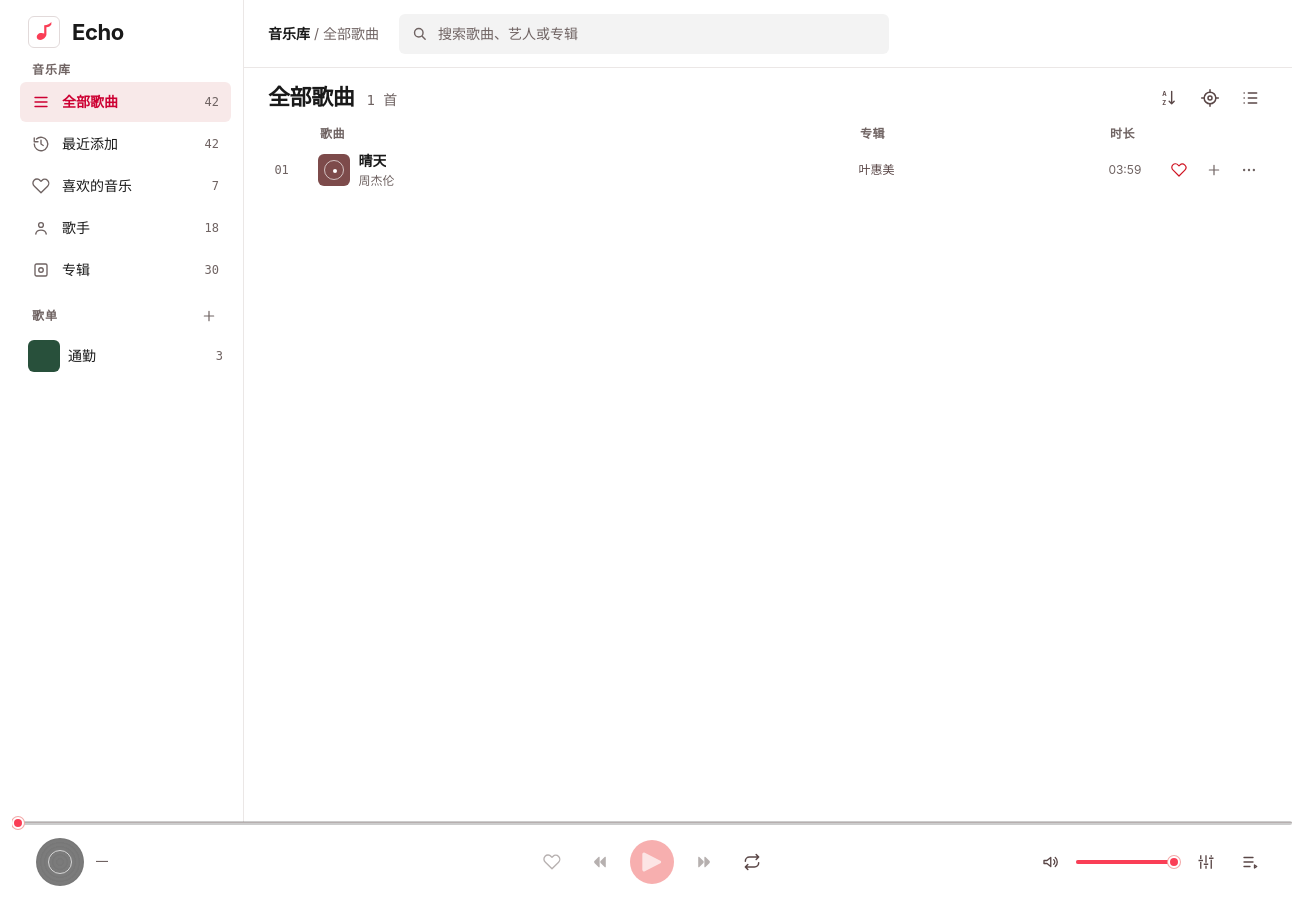
Test: 音乐库导航计数 › updates the exact favorite count without extra reads before or after the write
Check: the text "晴天" is shown, box top-left (358, 150), bottom-right (386, 172)
Click the button named "喜欢晴天". click: (1179, 170)
box: top-left (1166, 156), bottom-right (1193, 184)
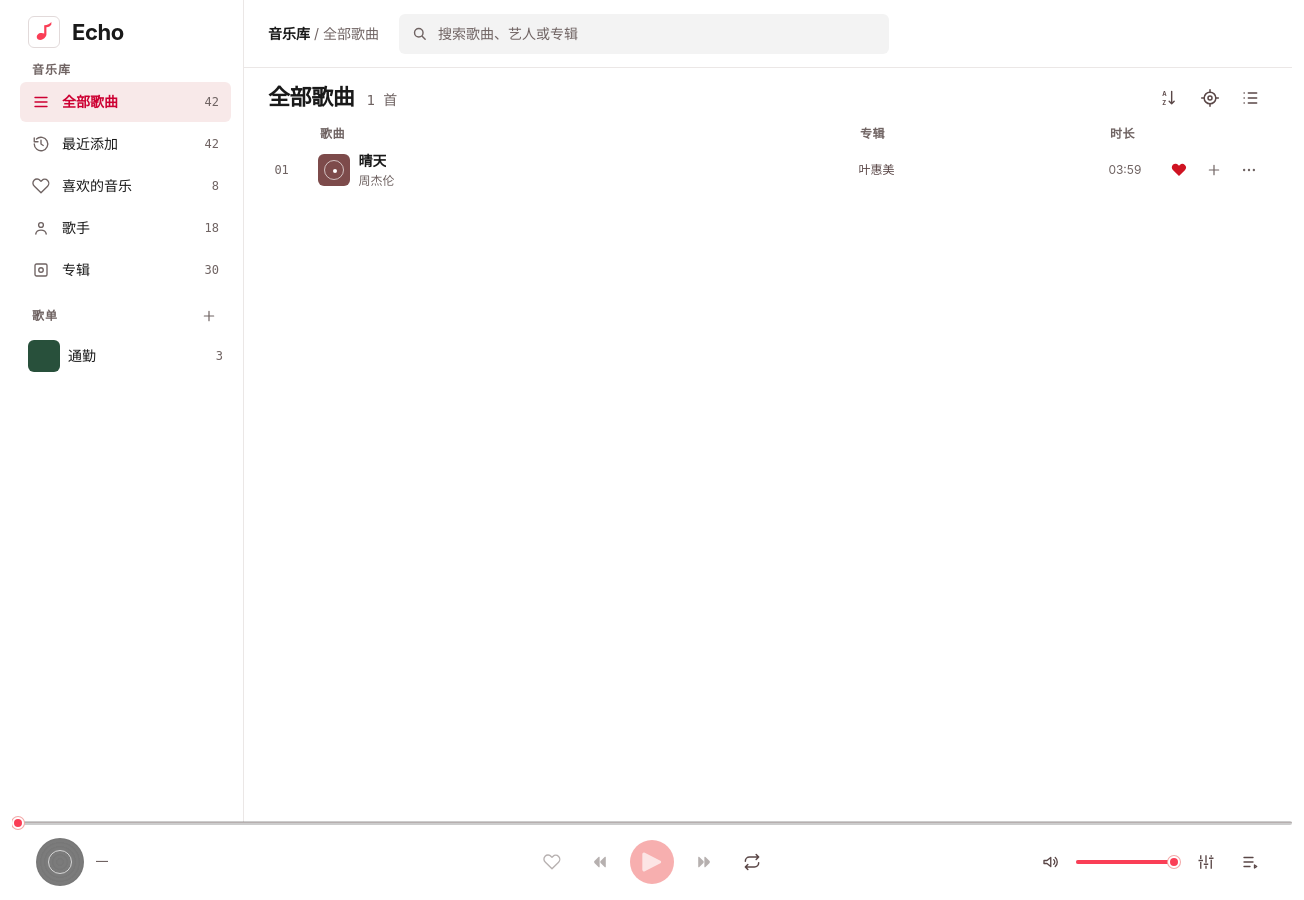
Check: the text with test id "nav-count-favorites" reads "8", box top-left (212, 179), bottom-right (219, 193)
